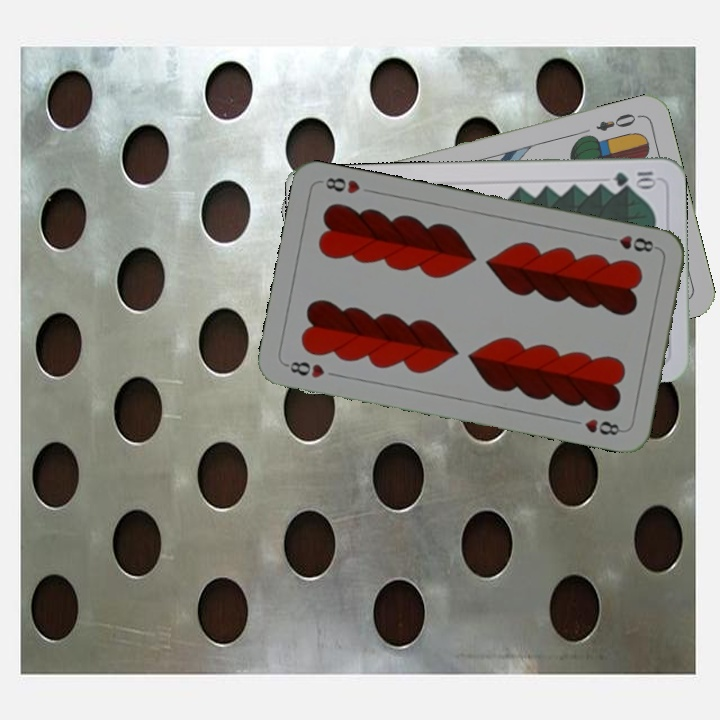EO: (592, 109, 643, 134)
G10: (609, 167, 659, 189)
H8: (602, 231, 660, 255), (281, 357, 327, 381)
